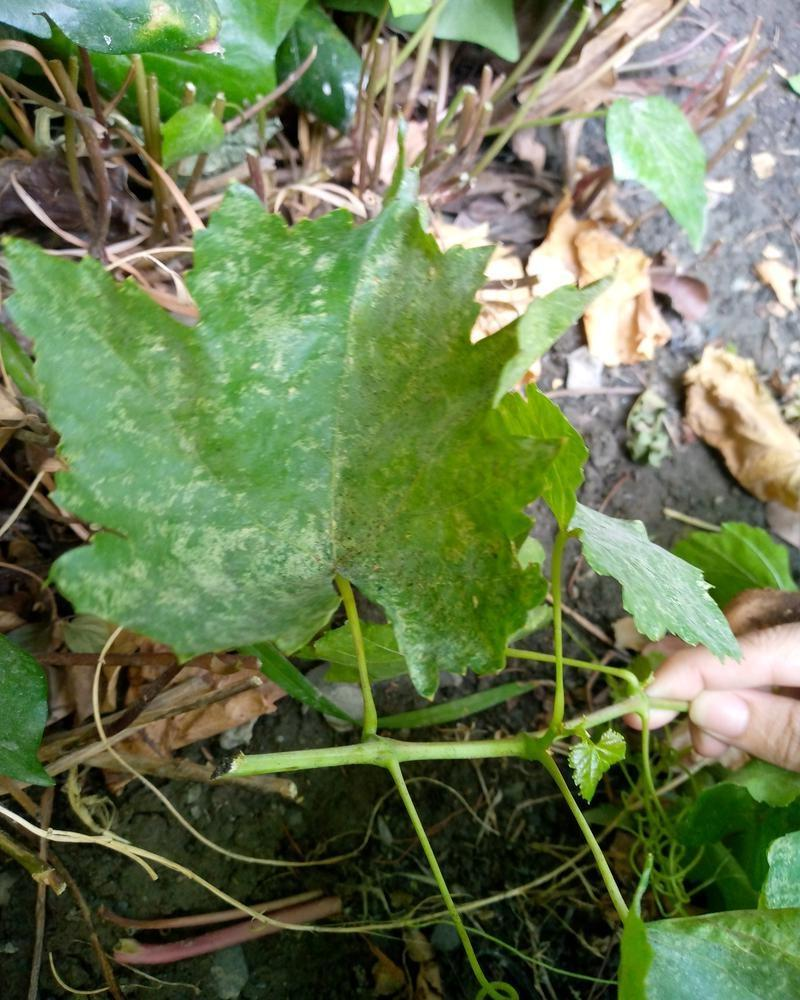Powdery-Mildew: (143, 512, 335, 676), (193, 188, 353, 380), (392, 586, 460, 687), (354, 239, 430, 308), (42, 269, 105, 332), (143, 330, 206, 393), (195, 397, 258, 460), (75, 549, 138, 612), (125, 460, 188, 522)
